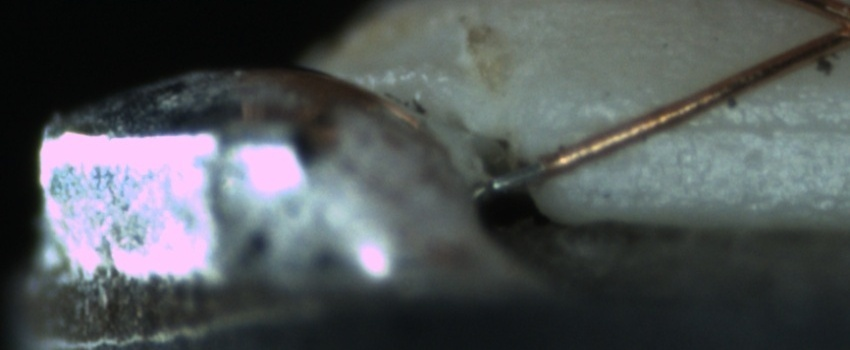CL: (808, 5, 849, 52)
DL: (615, 88, 847, 158)
TS: (487, 159, 545, 194)
